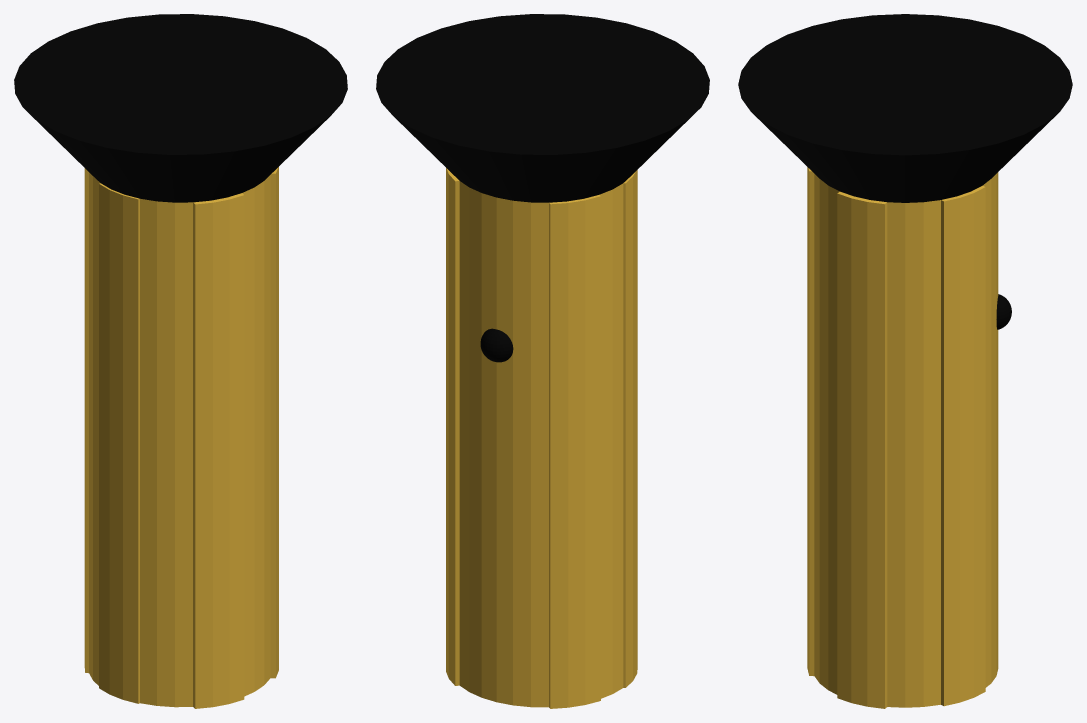
Rendered from Flashlight.glb.
3 views of the same model, side by side, from view 1: azimuth 30°, elevation 25°; view 2: azimuth 150°, elevation 25°; view 3: azimuth 270°, elevation 25° (orthographic).
Parts seen in each view (by area): view 1: Sphere; view 2: Sphere; view 3: Sphere.
Boxes of the visible parts, x1,y1,x2,y2 form: Sphere: (14,14,347,708); Sphere: (376,14,709,708); Sphere: (738,14,1072,708).
Bounding box in the file's own units: 0.9013 × 1.73 × 0.9013.
